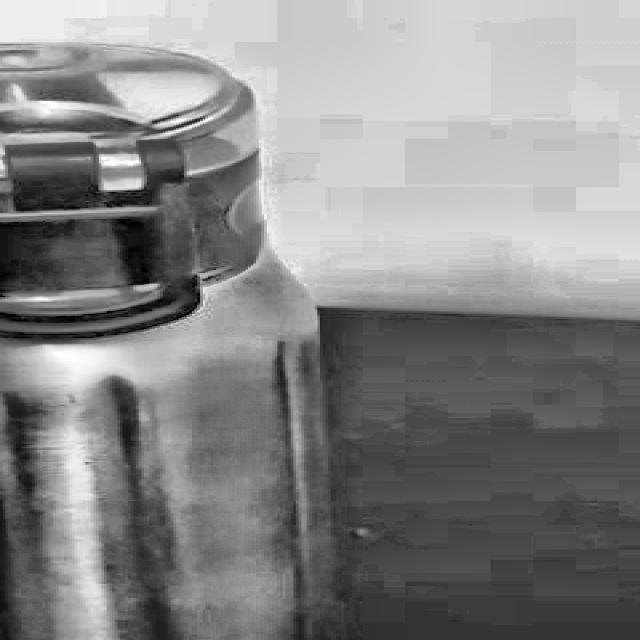bottle: (0, 39, 344, 640)
